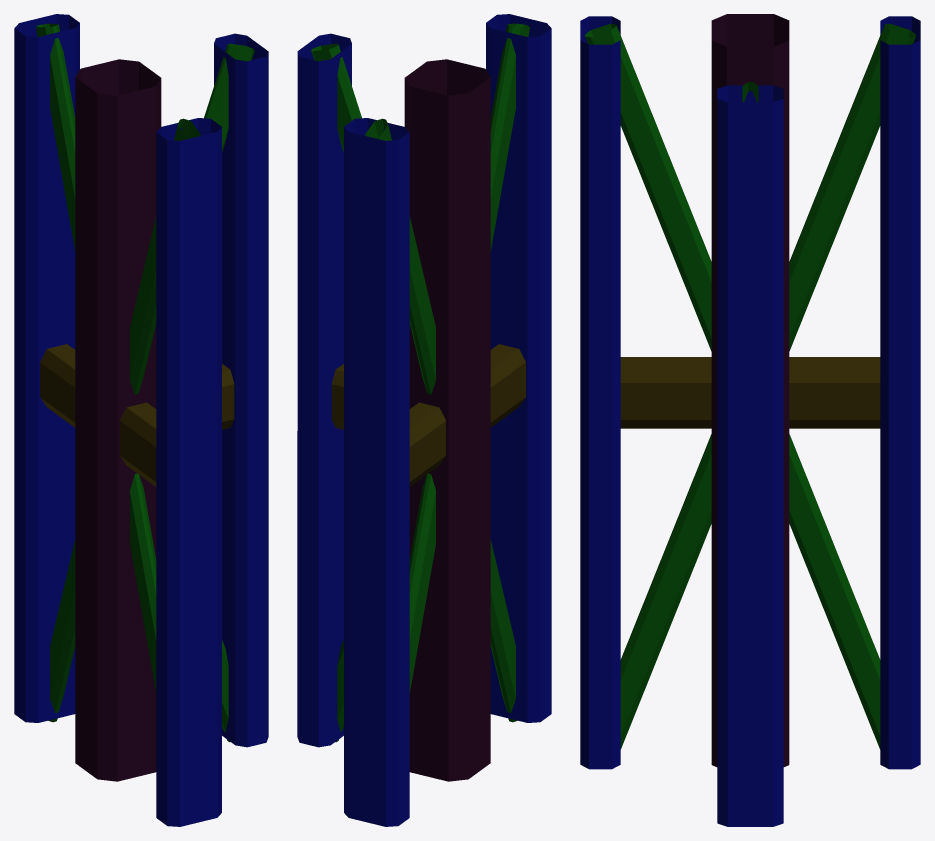
The model's file is OBJ_Armature.fbx.
3 renders of one model, left to right at view 1: azimuth 30°, elevation 25°; view 2: azimuth 150°, elevation 25°; view 3: azimuth 270°, elevation 25°, orthographic. The views are drawn at different scales.
Visible parts, largest first — view 1: Box154; view 2: Box154; view 3: Box154.
Boxes of the visible parts, box(x1,y1,x2,y2) form: Box154: box(14, 14, 268, 826); Box154: box(297, 14, 551, 826); Box154: box(580, 14, 920, 826).
Size of the model in its own units: 1255 by 4868 by 2042.
